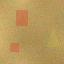structure: (46, 26, 59, 47)
vehicle: (15, 10, 27, 26), (10, 42, 19, 51)
